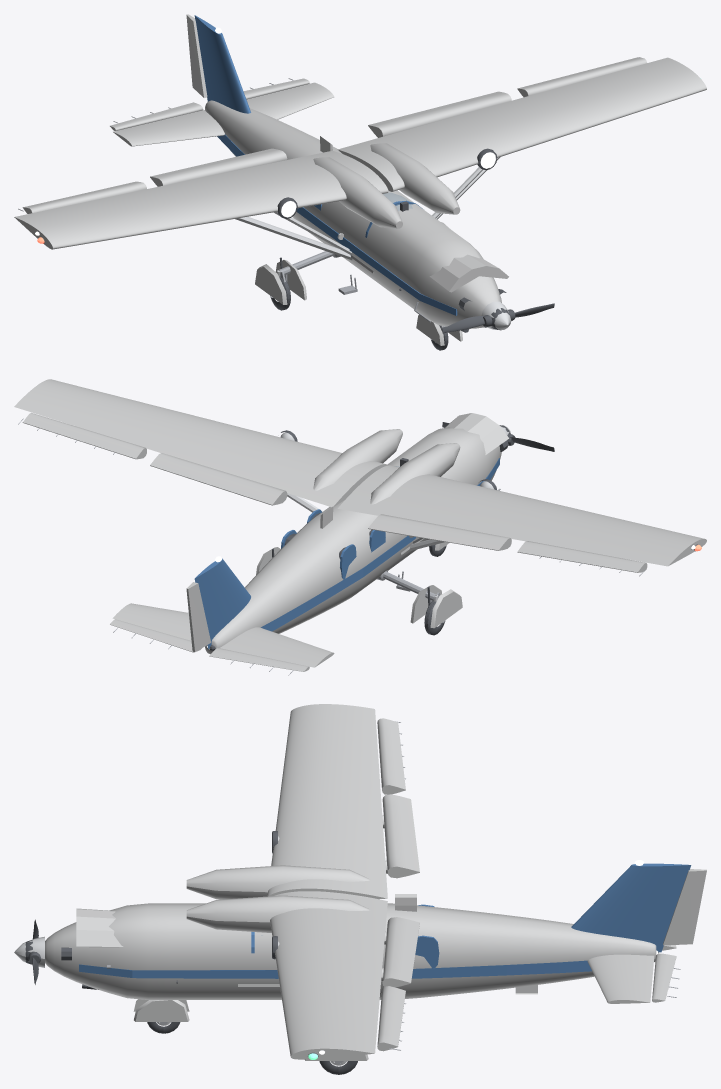
The model's file is AirportLightPlane.glb.
3 renders of one model, top to bottom at view 1: azimuth 30°, elevation 25°; view 2: azimuth 150°, elevation 25°; view 3: azimuth 270°, elevation 25°, orthographic. The views are drawn at different scales.
Visible parts, largest first — view 1: high-wing-single, flap-right, flap-left, cowl-top, elevator, aileron-right, aileron-left, prop, rudder; view 2: high-wing-single, flap-right, flap-left, aileron-right, elevator, aileron-left, cowl-top, rudder; view 3: high-wing-single, flap-left, flap-right, rudder, aileron-left, cowl-top, aileron-right, elevator.
Part boxes in pixels (x1,y1,x2,y2): high-wing-single: [14, 15, 706, 345]; flap-right: [368, 91, 511, 137]; flap-left: [150, 148, 287, 186]; cowl-top: [429, 254, 508, 292]; elevator: [110, 78, 309, 130]; aileron-right: [517, 57, 646, 97]; aileron-left: [22, 181, 146, 213]; prop: [442, 303, 554, 333]; rudder: [186, 14, 207, 97]; high-wing-single: [14, 379, 706, 675]; flap-right: [150, 453, 287, 505]; flap-left: [368, 514, 511, 550]; aileron-right: [22, 413, 146, 459]; elevator: [110, 619, 309, 671]; aileron-left: [517, 541, 647, 572]; cowl-top: [445, 413, 508, 454]; rudder: [186, 582, 210, 651]; high-wing-single: [14, 704, 691, 1063]; flap-left: [382, 794, 419, 878]; flap-right: [382, 917, 419, 987]; rudder: [663, 869, 706, 945]; aileron-left: [377, 718, 405, 794]; cowl-top: [76, 908, 123, 947]; aileron-right: [377, 986, 405, 1051]; elevator: [652, 945, 676, 1002].
Bounding box in the file's own units: 9.4 × 2.17 × 7.87.
